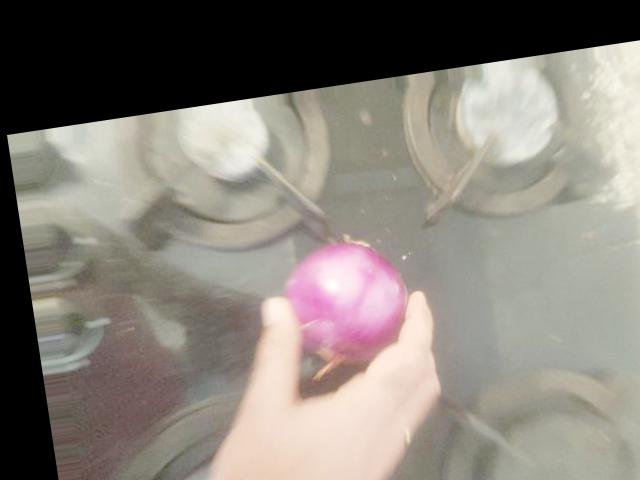onion: (382, 144, 516, 285)
